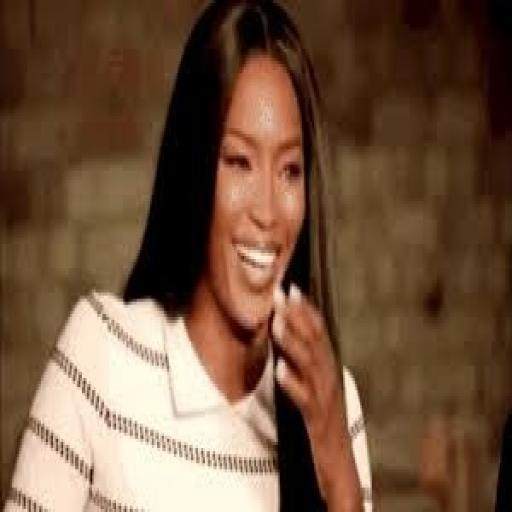laughing: (2, 0, 382, 509)
